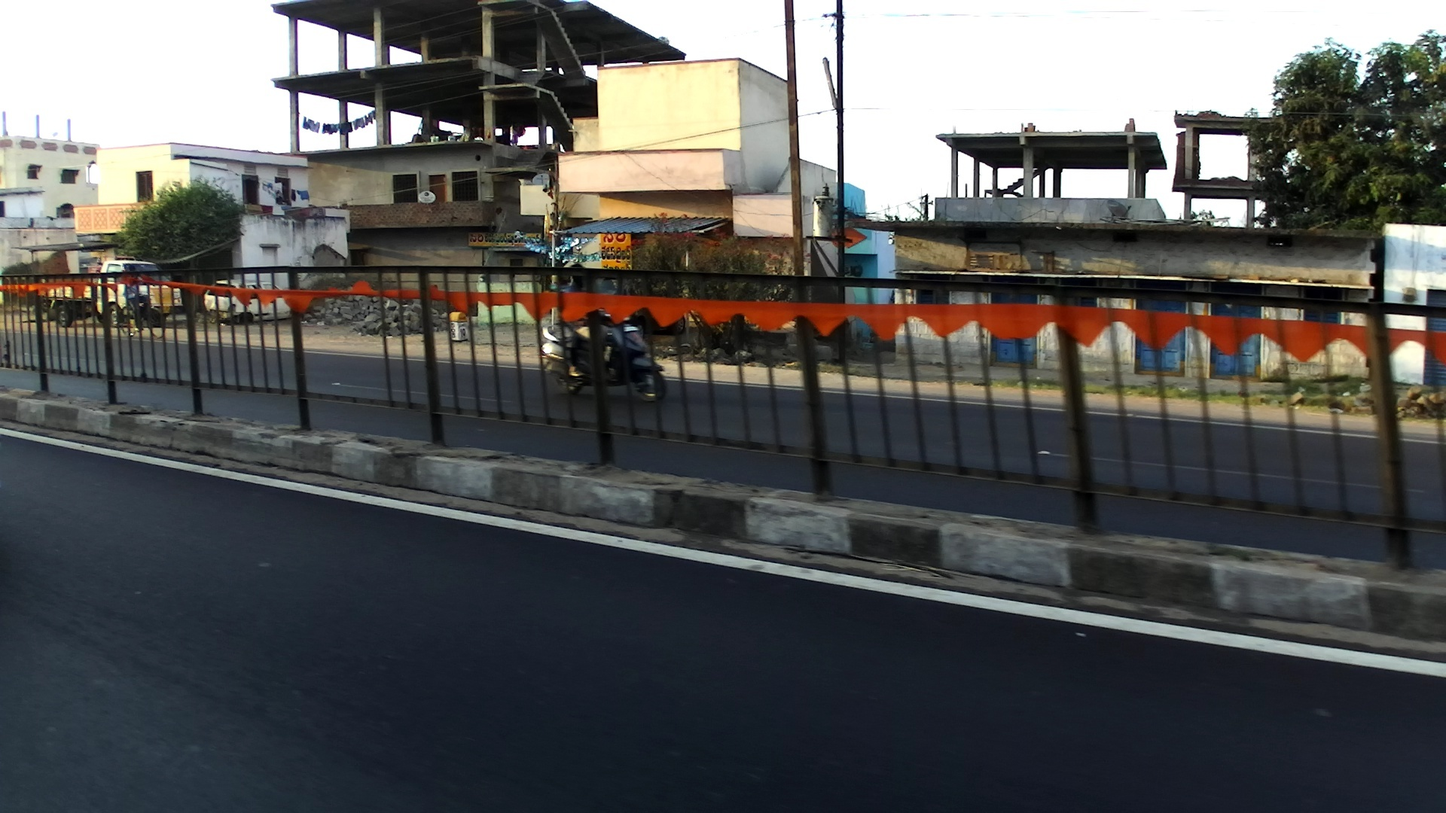vehicle fallback: (93, 258, 172, 290)
